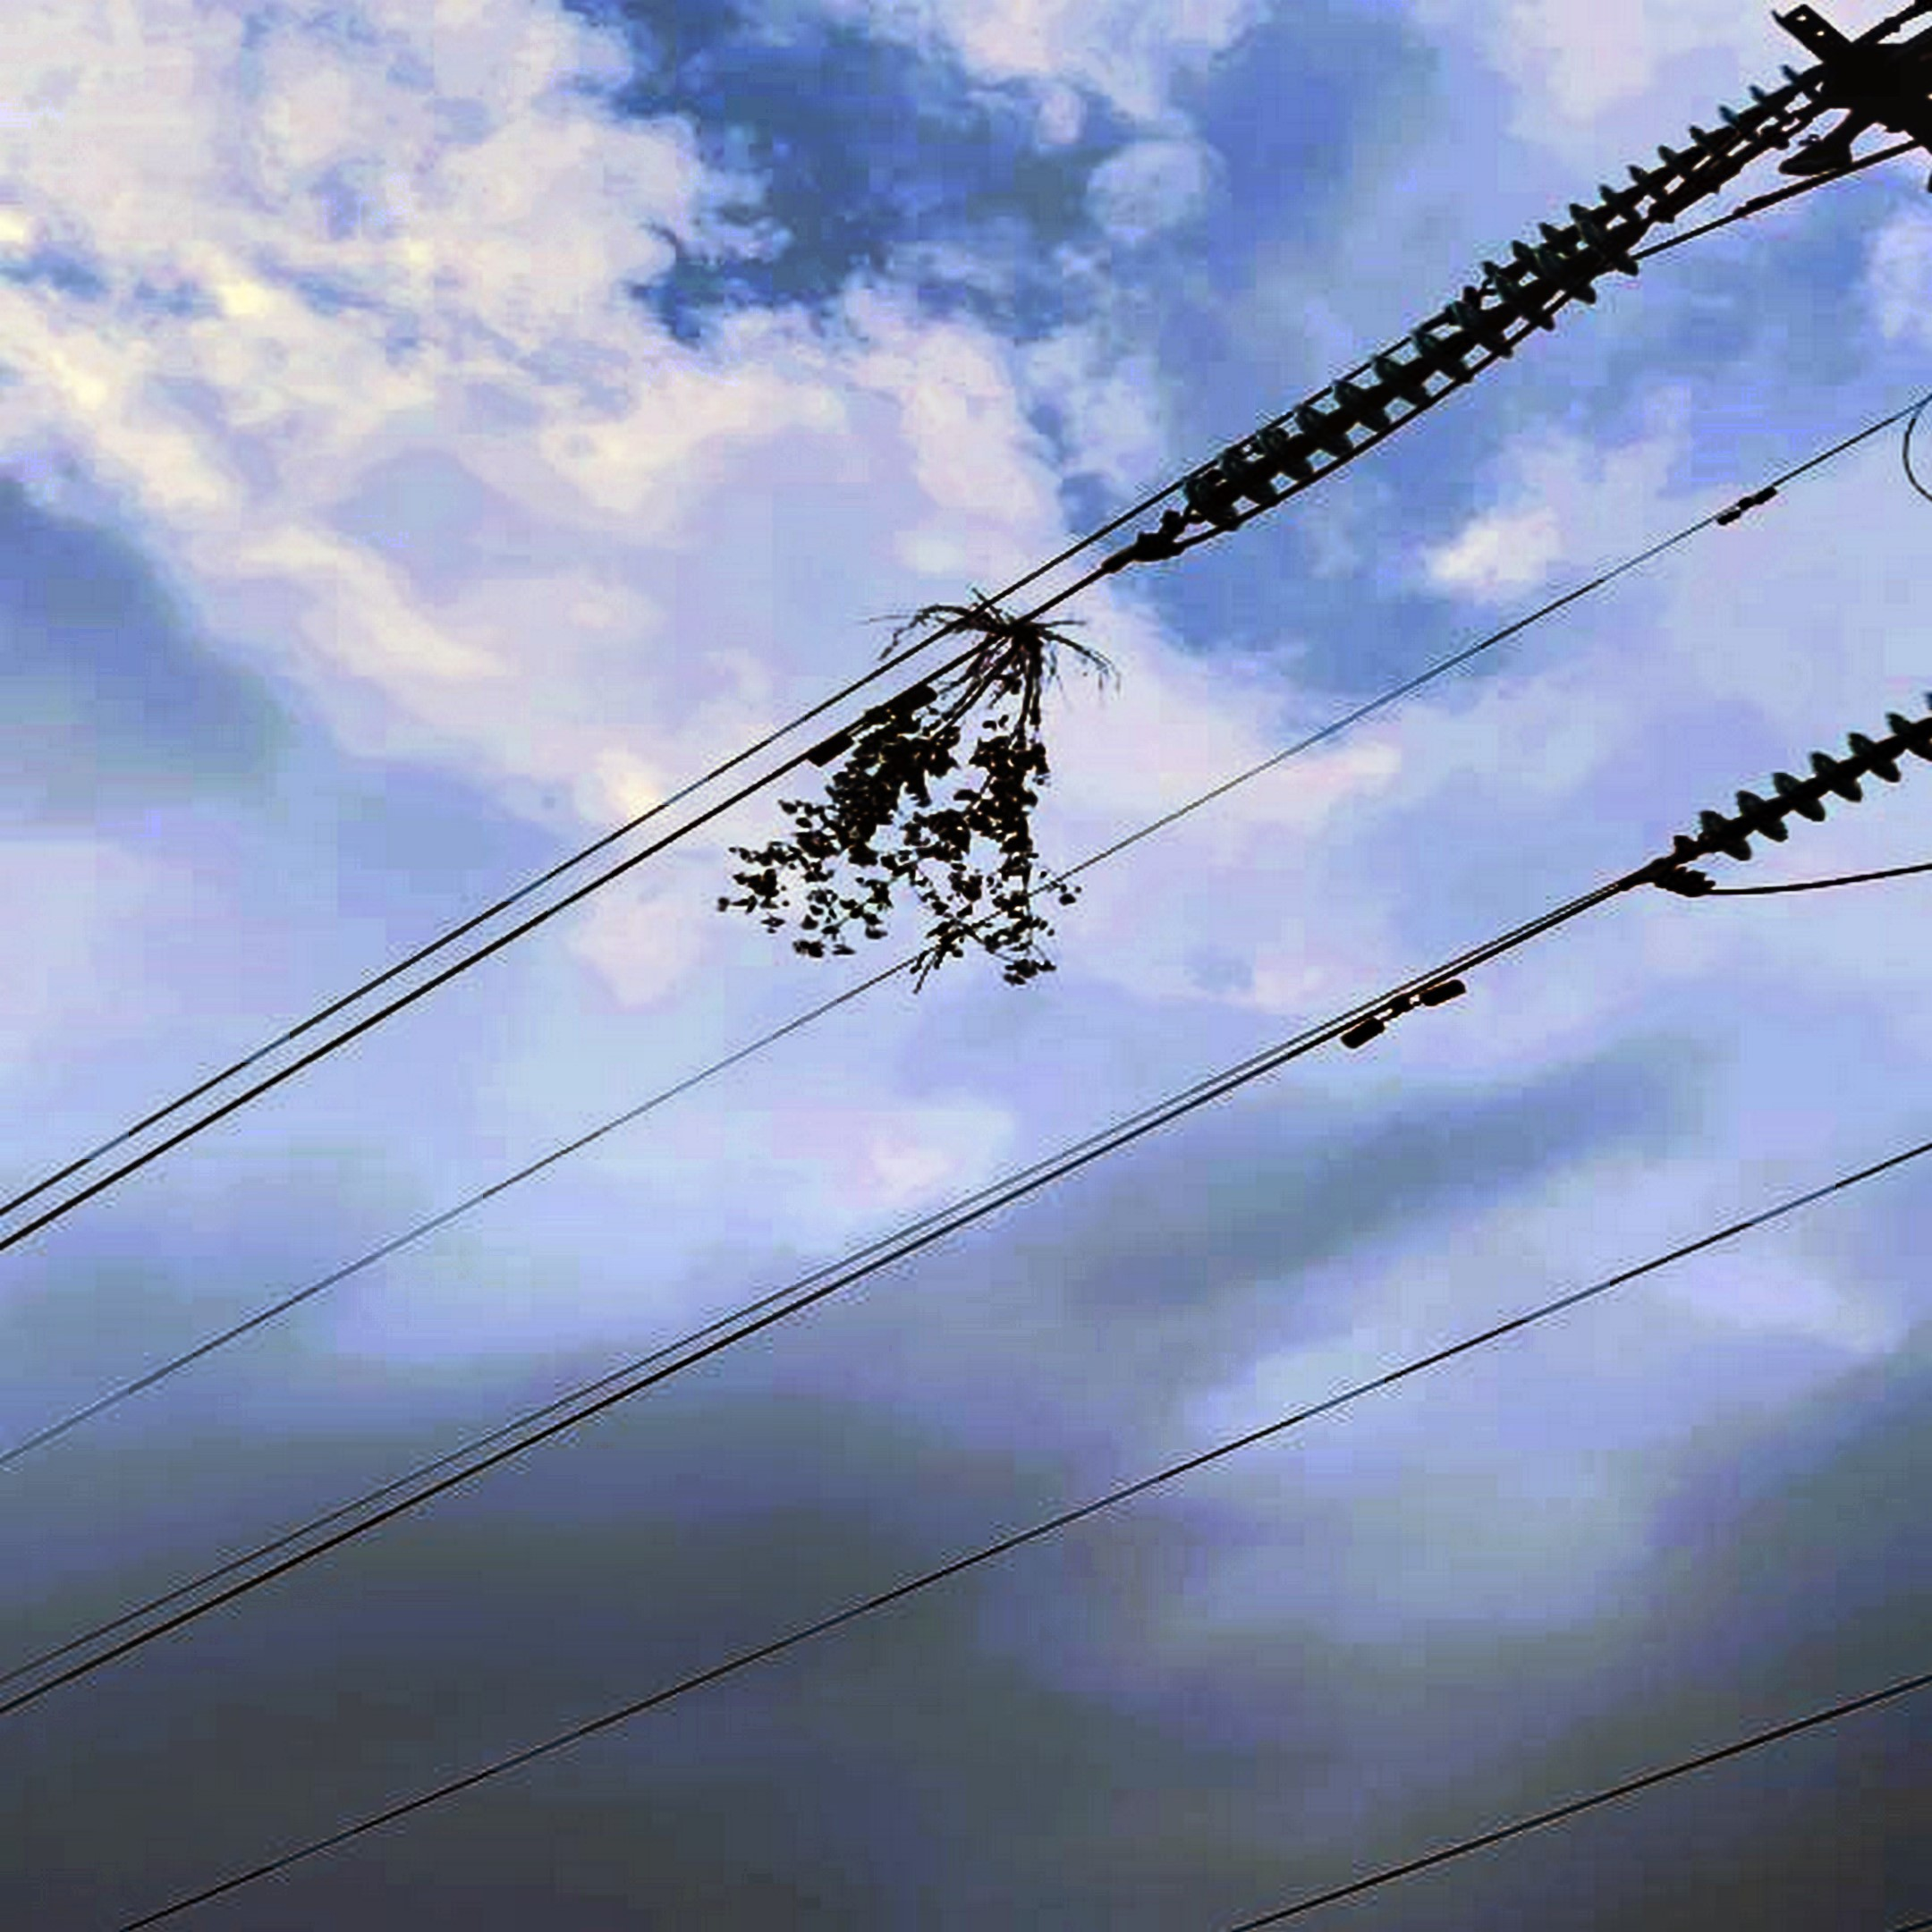wire foreign body: (709, 522, 1136, 1000)
